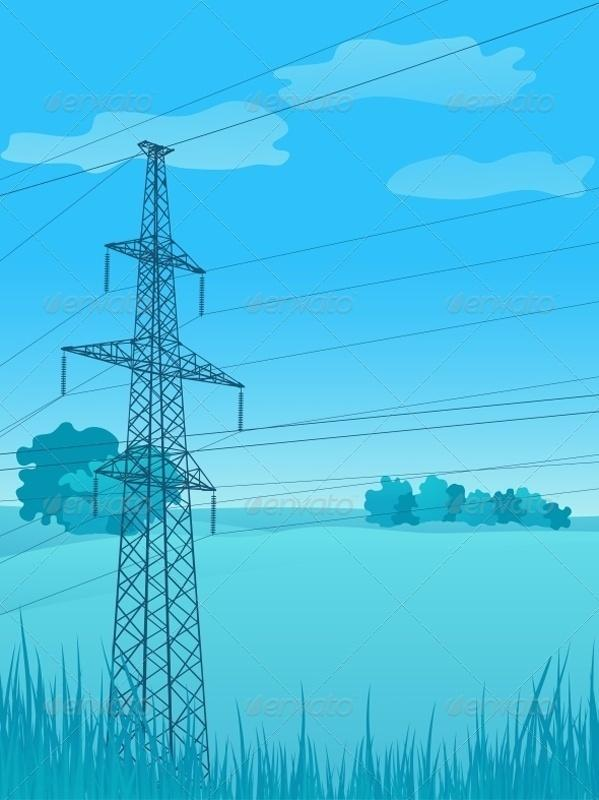power_tower: (69, 132, 255, 782)
